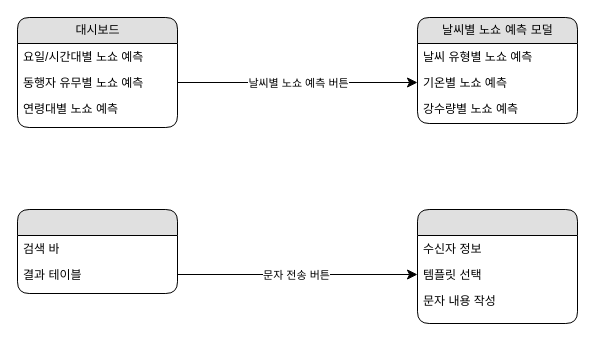
This 595x341 diagram has some shape labels left out. Each missing label, with the box of its shape:
고객 관리: (16, 208, 178, 294)
문자 전송 모덜: (416, 208, 578, 324)
